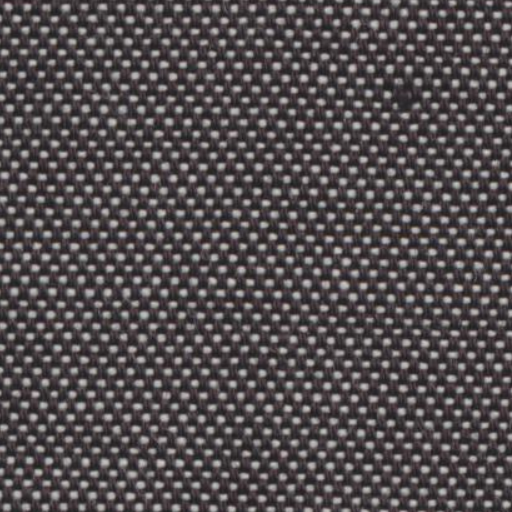MianQiu: (362, 70, 443, 122)
